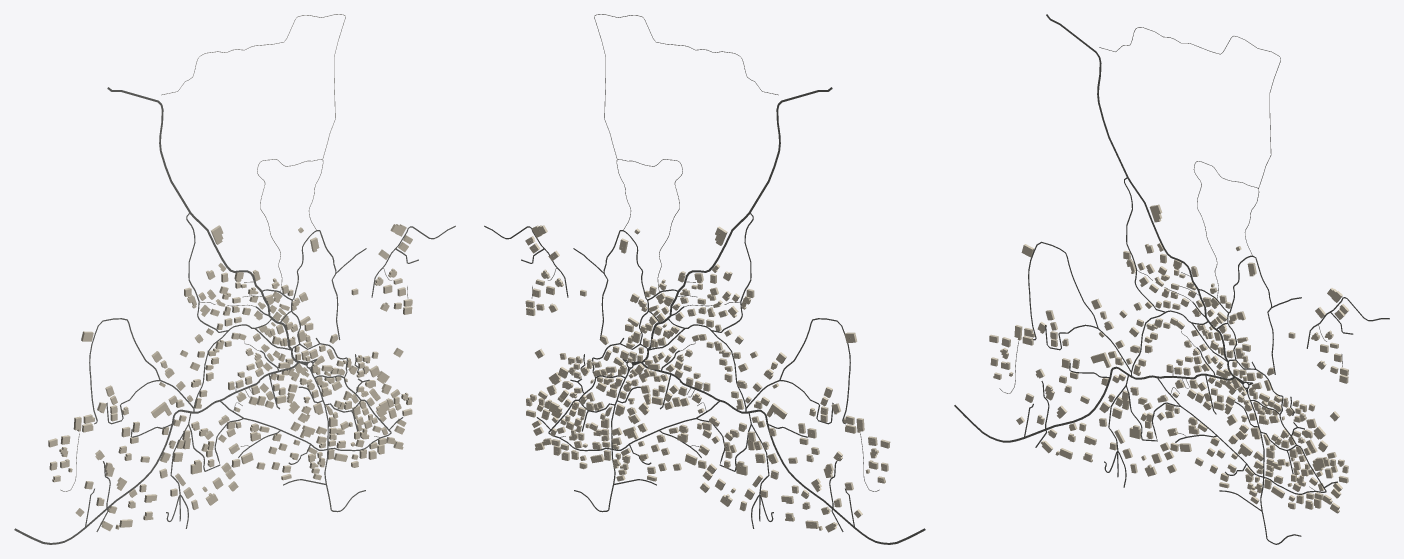
The model's file is historic-palestine-11_24_3527_3187.glb.
3 views of the same model, side by side, from view 1: azimuth 30°, elevation 25°; view 2: azimuth 150°, elevation 25°; view 3: azimuth 330°, elevation 25° (orthographic).
Parts seen in each view (by area): view 1: Road .011, Road .006; view 2: Road .011, Road .006; view 3: Road .011, Road .006.
Part boxes in pixels (left/top/right/bottom): Road .011: left=14, top=361, right=298, bottom=544; Road .006: left=107, top=87, right=261, bottom=291; Road .011: left=641, top=362, right=925, bottom=544; Road .006: left=678, top=87, right=832, bottom=291; Road .011: left=954, top=366, right=1235, bottom=442; Road .006: left=1046, top=14, right=1198, bottom=289.
Bounding box in the file's own units: 1175 × 1285 × 8.7.
